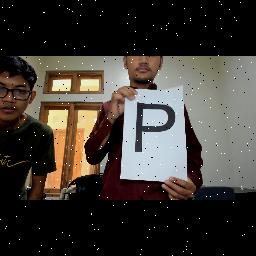p: (132, 99, 176, 157)
